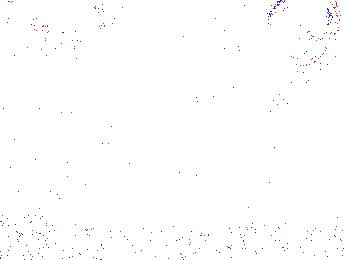moon jellyfish: (268, 1, 343, 67), (243, 41, 321, 102), (183, 26, 246, 98), (35, 1, 111, 31), (1, 3, 31, 60)
